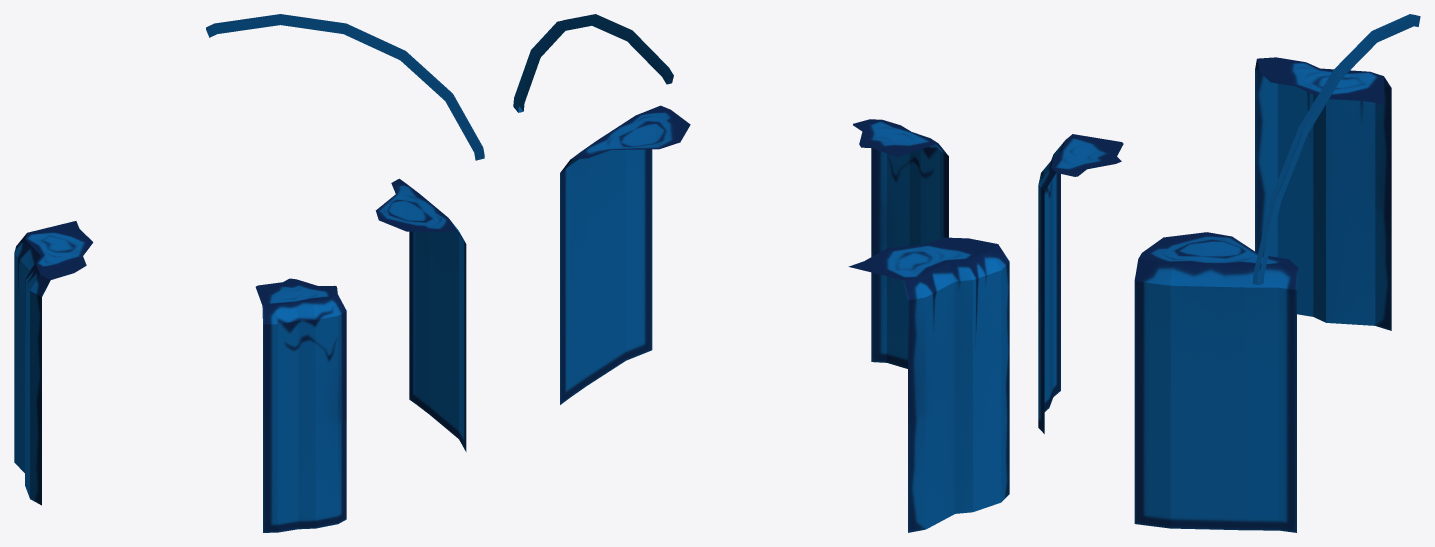
File: Water_01.FBX
The picture shows the model from 3 angles, left to right: view 1: azimuth 30°, elevation 25°; view 2: azimuth 150°, elevation 25°; view 3: azimuth 270°, elevation 25°; orthographic projection. The views are drawn at different scales.
Visible parts, largest first — view 1: Water_01; view 2: Water_01; view 3: Water_01.
Boxes of the visible parts, x1=… form: Water_01: x1=14, y1=14, x2=484, y2=532; Water_01: x1=513, y1=14, x2=1009, y2=532; Water_01: x1=1038, y1=14, x2=1420, y2=532.
Bounding box in the file's own units: 22.52 × 18.49 × 14.34.
